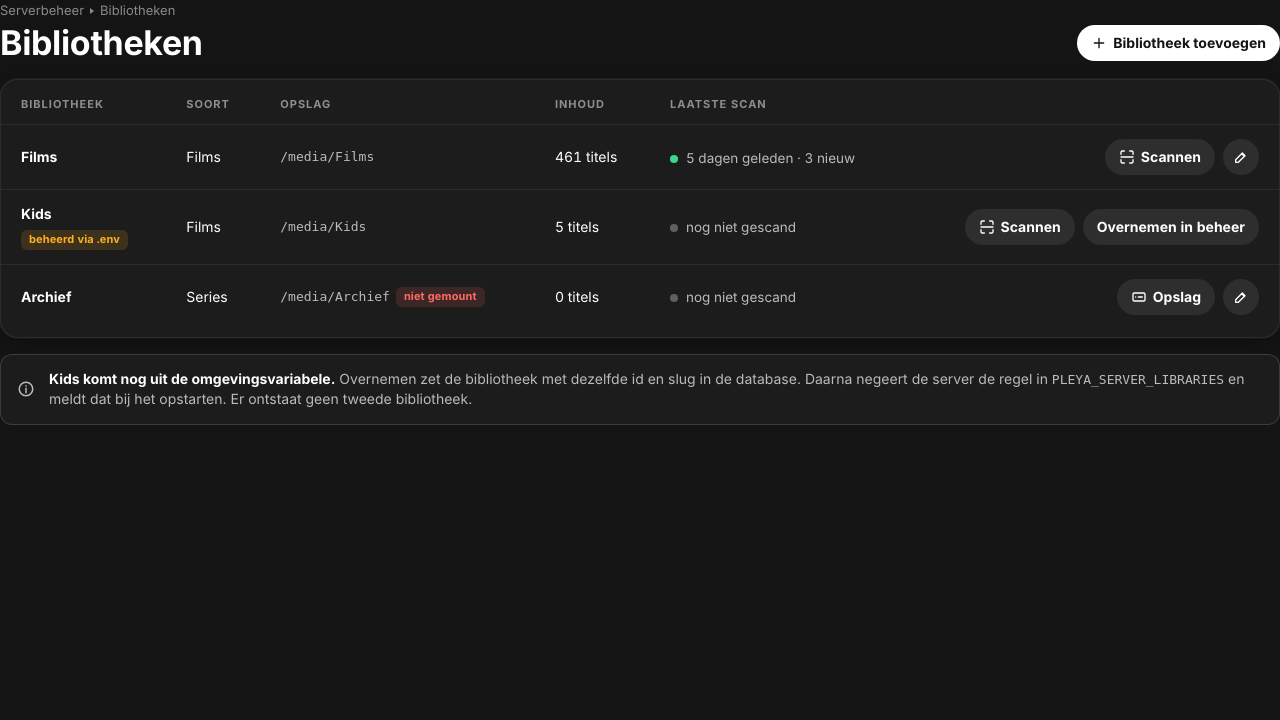
Test case: scherm 21, bibliotheken › neemt een .env-bibliotheek pas na bevestiging over
This screenshot has width=1280, height=720.
Click the button "Overnemen in beheer" at point(1171, 227), box top-left (1083, 209), bottom-right (1259, 245)
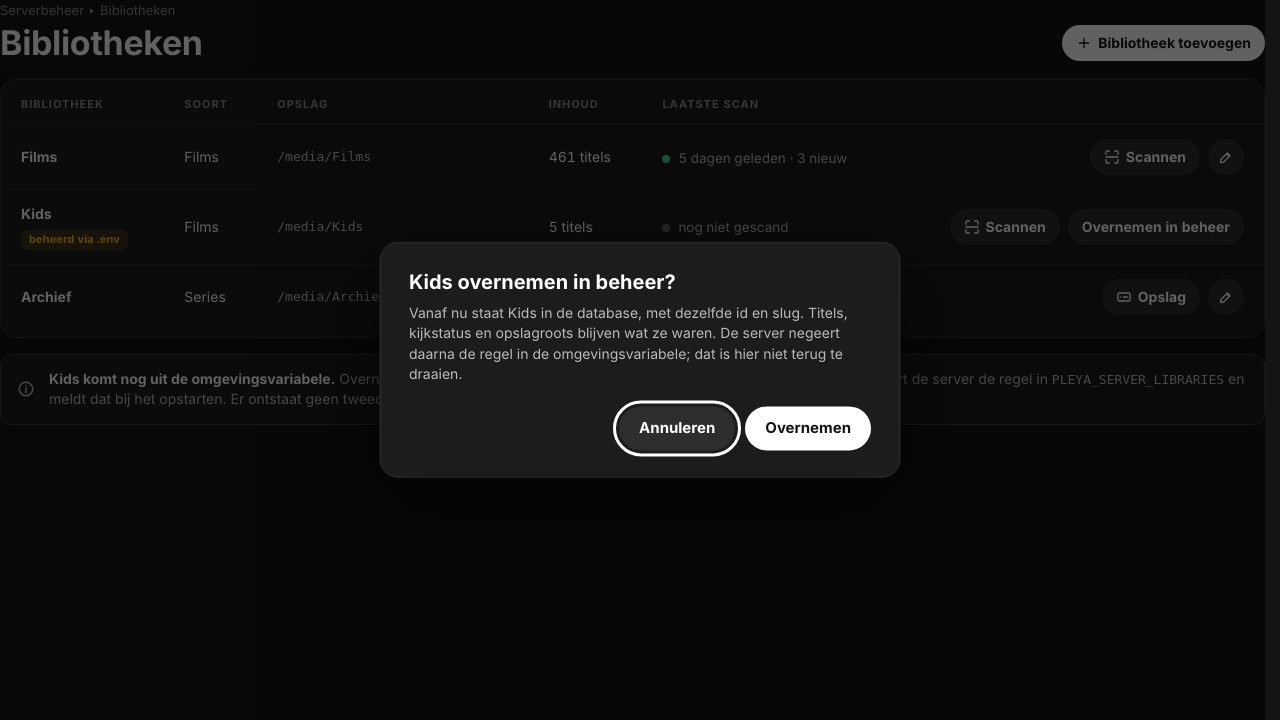
Click the button "Overnemen" at point(808, 429), box top-left (745, 407), bottom-right (871, 451)
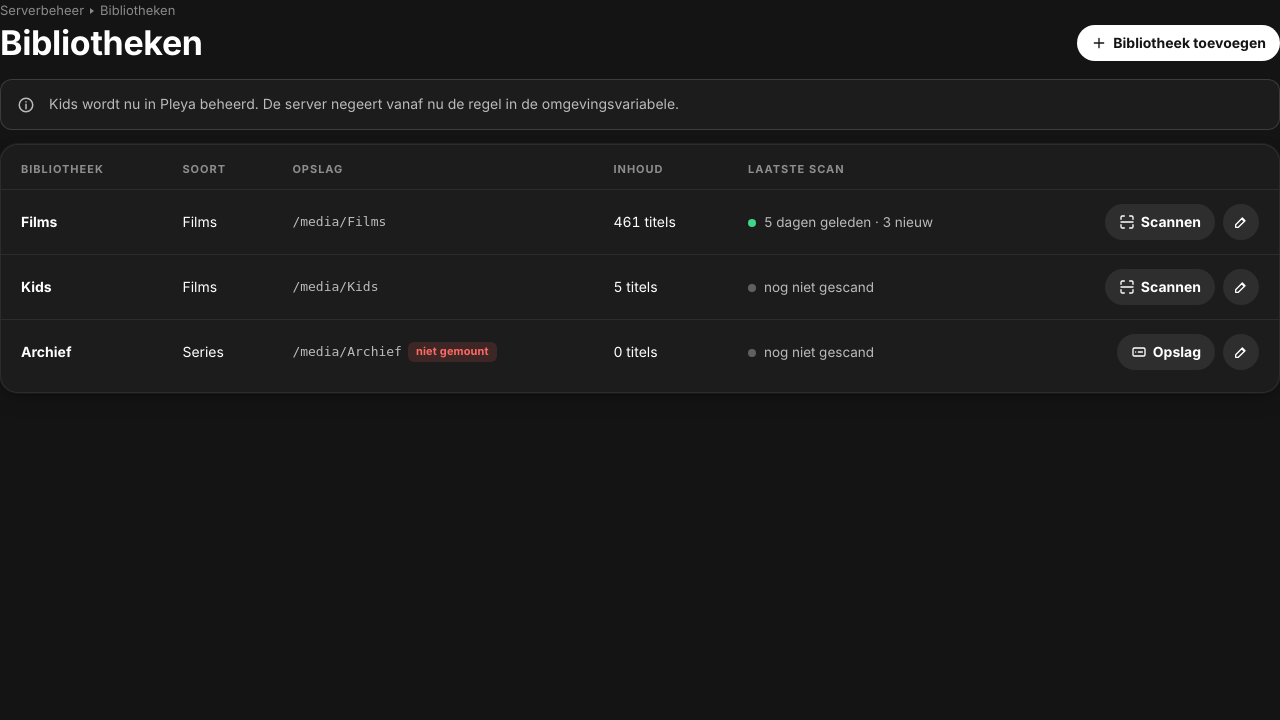
Result: the text "beheerd via .env" is gone
Result: the text "Kids komt nog uit de omgevingsvariabele." is gone
